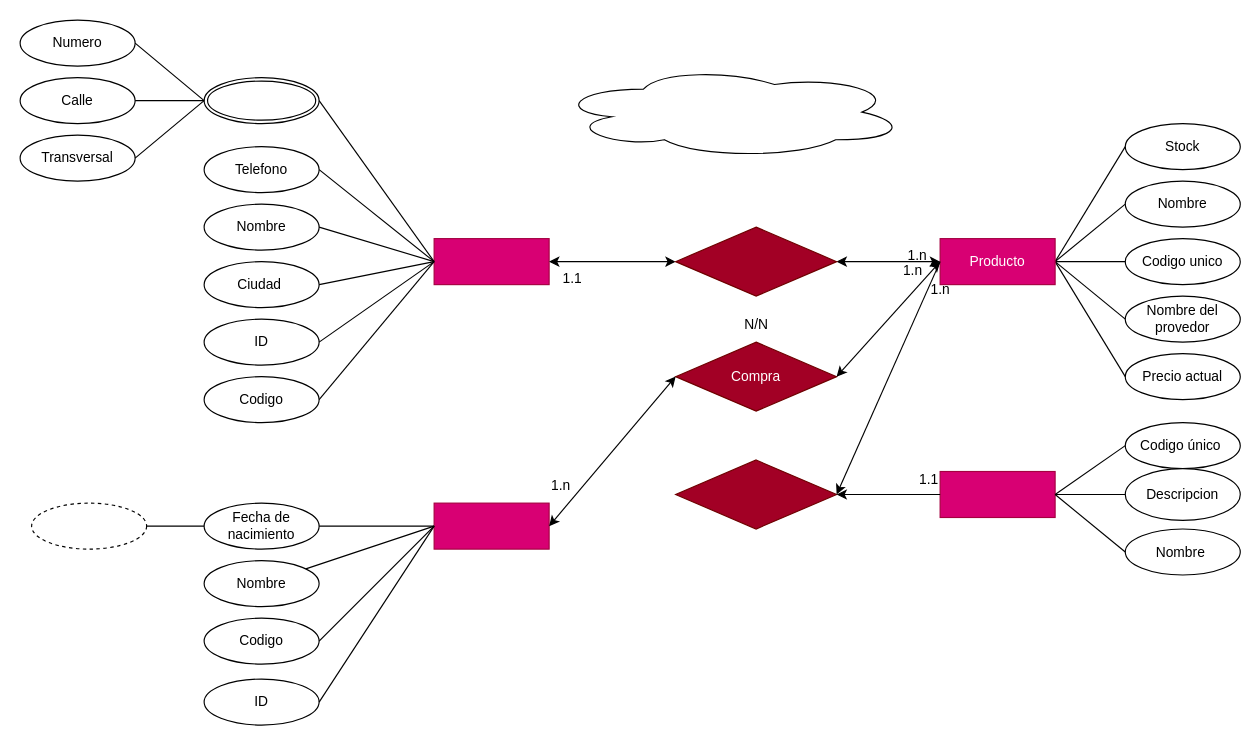
Image size: 1260x745. Some labels were removed from this diagram. The shapes that lost their labels are listed below. From the top down, each one's centre as x and y in pixels, then its label:
At (261,100): "Dirrecion".
At (730,111): "Primer laboratorio punto 1".
At (491,261): "Provedor".
At (755,261): "Suministra".
At (755,494): "Pertenecen".
At (997,494): "Categoria".
At (88,525): "Edad".
At (491,525): "Cliente".
